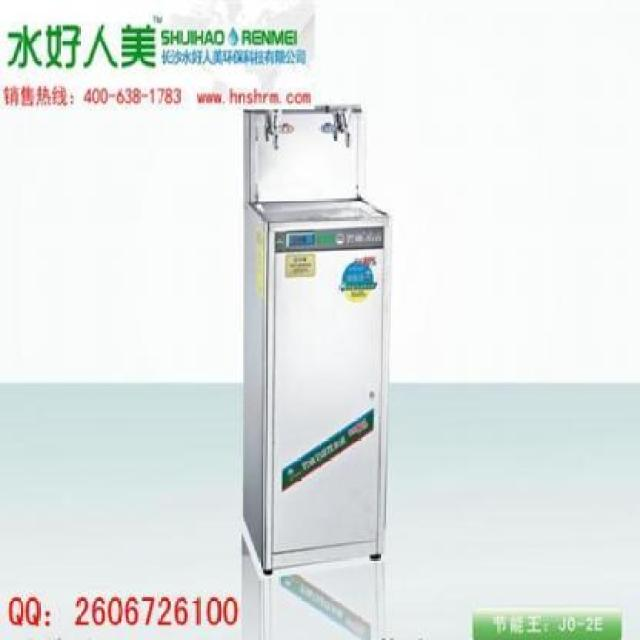cooler: (238, 103, 394, 579)
